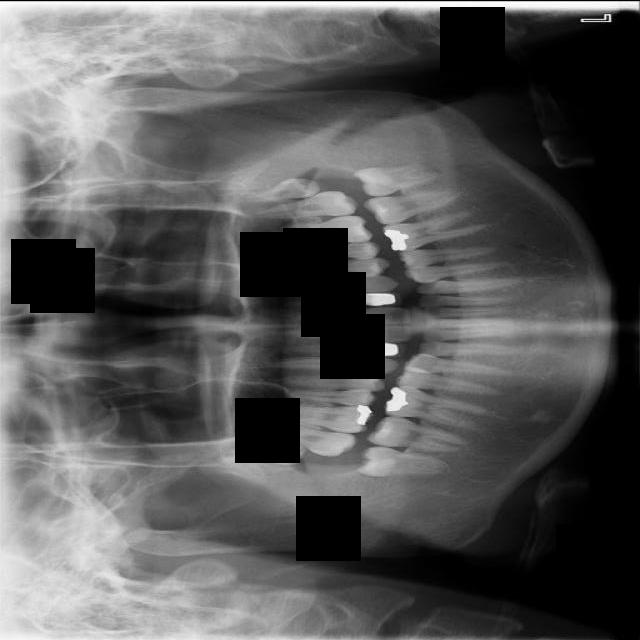3M ESPE Implant: (210, 439, 307, 465)
52: (381, 378, 436, 429), (380, 211, 429, 258), (321, 403, 375, 434), (358, 288, 402, 307), (364, 340, 407, 357)
73: (550, 38, 570, 38)
BioHorizons Implant: (255, 188, 360, 222)
BioLife Implant: (238, 175, 321, 204)
Biomet 3i Implant: (352, 162, 442, 197)
Blue Sky Bio Implant: (362, 188, 464, 227)
Caries: (252, 415, 360, 461)
Implant: (366, 413, 470, 453)
Keystone Dental Implant: (356, 445, 449, 476)
